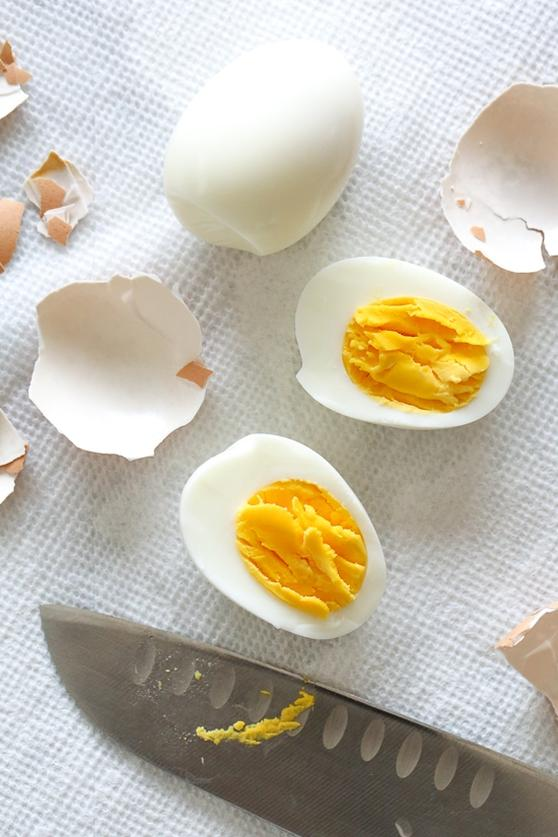egg: (166, 37, 375, 255)
